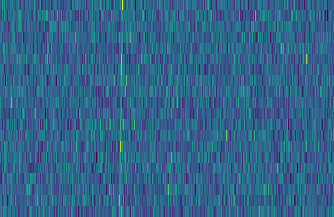signal: (114, 0, 126, 217)
